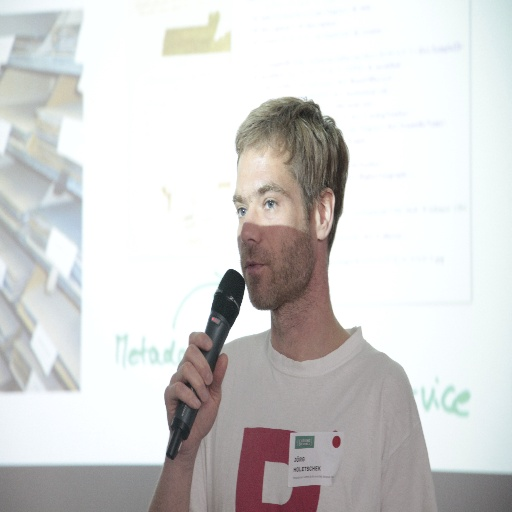hand: (164, 339, 245, 468)
